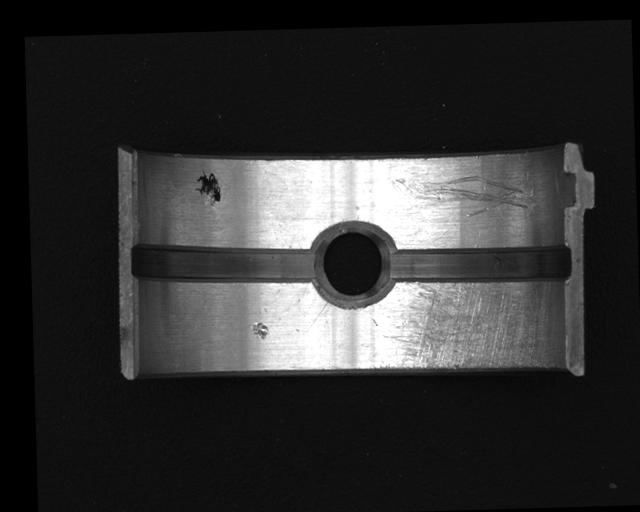blot: (193, 169, 222, 206)
bruise: (250, 321, 270, 341)
gap: (128, 241, 322, 287), (385, 241, 573, 287)
hole: (309, 219, 397, 305)
nick: (392, 171, 528, 219), (301, 301, 330, 334)
scratch: (368, 276, 558, 374)
